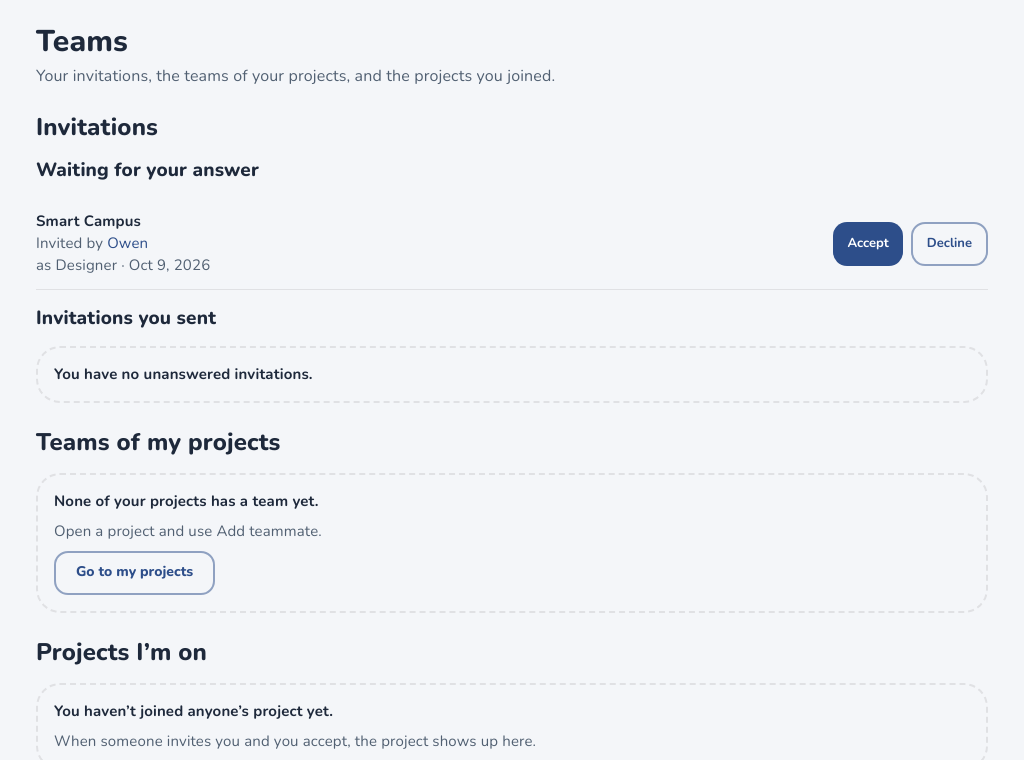
Test: incoming invitations › an invitation that was withdrawn says so and refreshes
The width and height of the screenshot is (1024, 760).
Click the button with aria-label "Accept the invitation" at (868, 244), box [833,222,903,266]
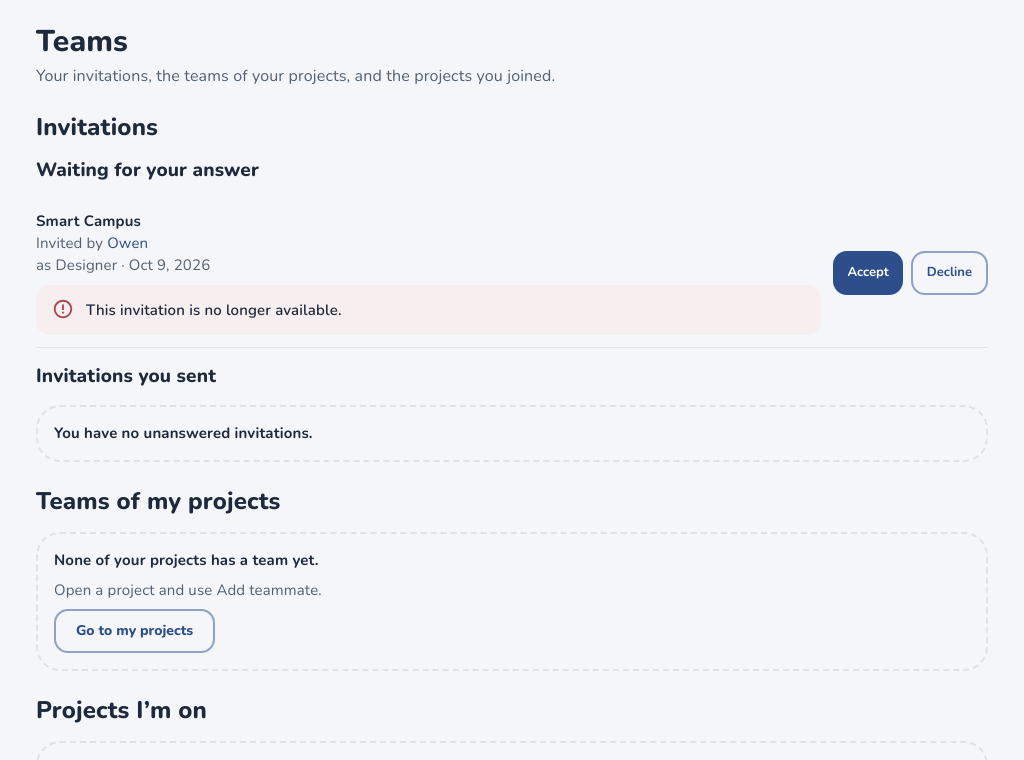
Expected: the message shows "no longer available", [86,300,342,320]
